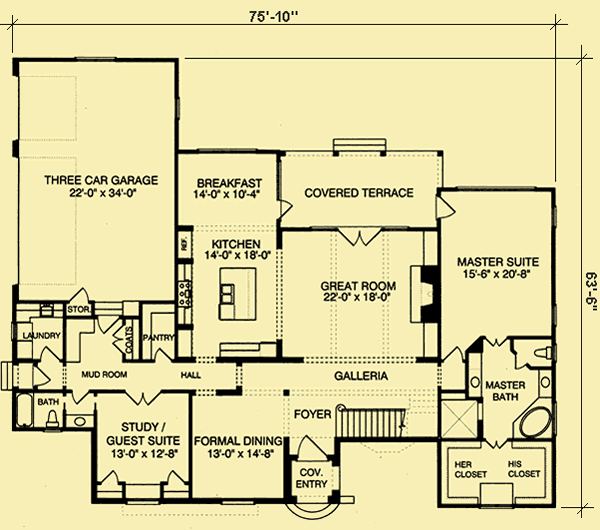door: (294, 432, 329, 464), (337, 224, 383, 248), (120, 387, 161, 408), (30, 362, 51, 389), (435, 195, 456, 220), (63, 287, 89, 306), (70, 386, 94, 405), (440, 345, 463, 363), (96, 314, 117, 333), (39, 345, 63, 360), (152, 345, 171, 361)
kitchen_bar: (216, 266, 259, 324)
large_sink: (529, 343, 550, 362)
small_sink: (466, 352, 483, 397), (537, 369, 555, 399)
stairs: (334, 402, 409, 442)
tub: (515, 401, 555, 441), (12, 390, 35, 428), (39, 346, 62, 363)
